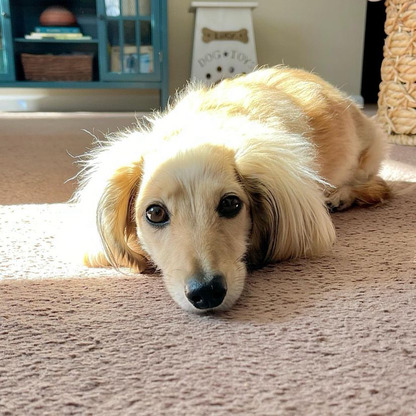dachshund: (64, 62, 404, 311)
